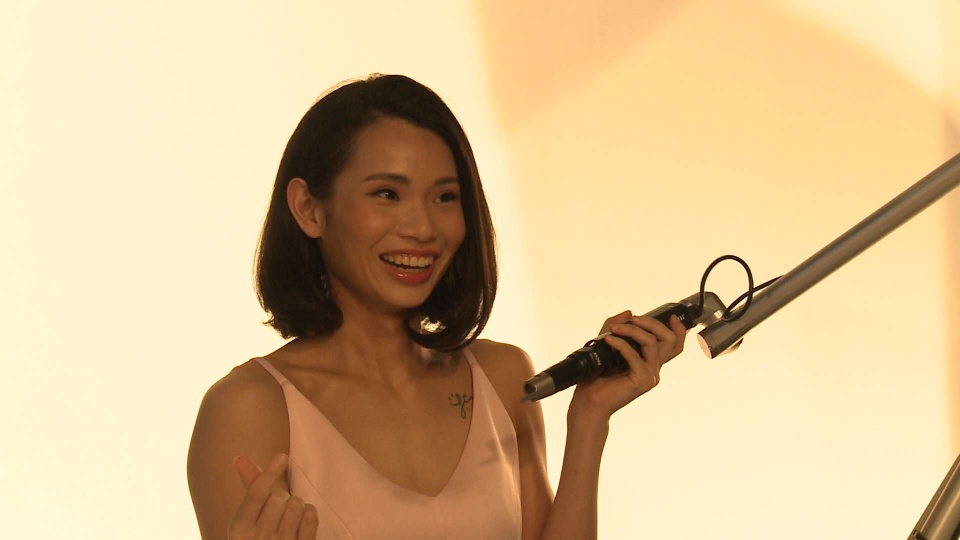female: (242, 50, 526, 350)
